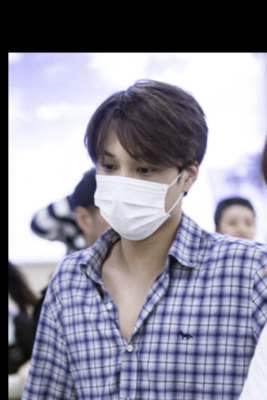with_mask: (96, 147, 186, 237)
